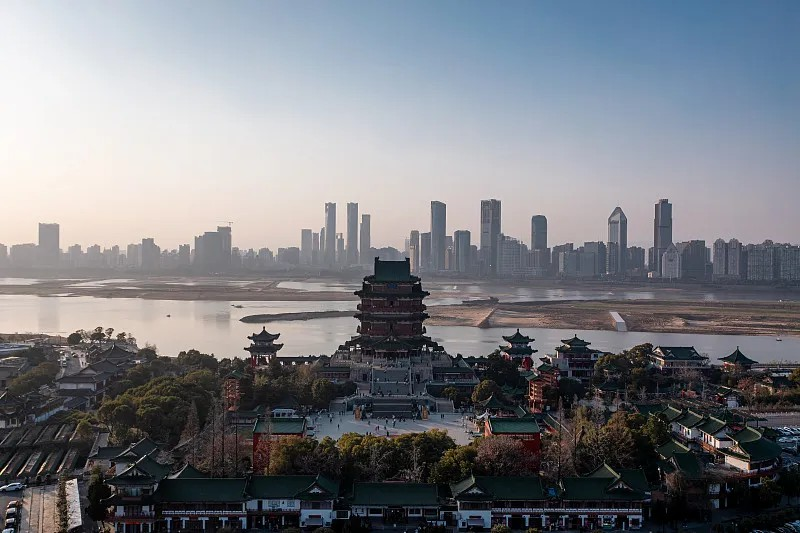Teng: (338, 254, 444, 358)
